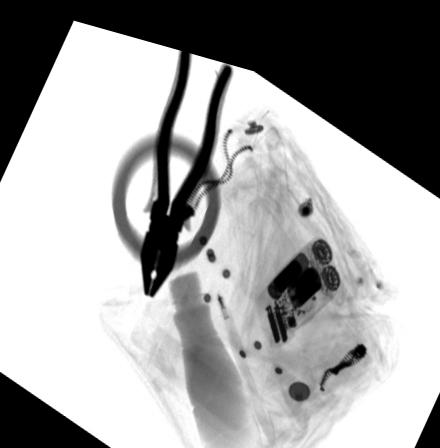Pliers: (137, 40, 233, 292)
